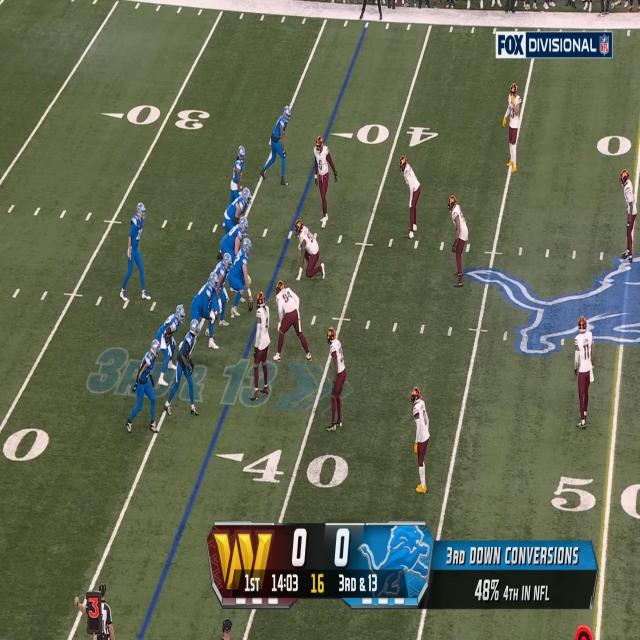Ball: (248, 300, 254, 312)
